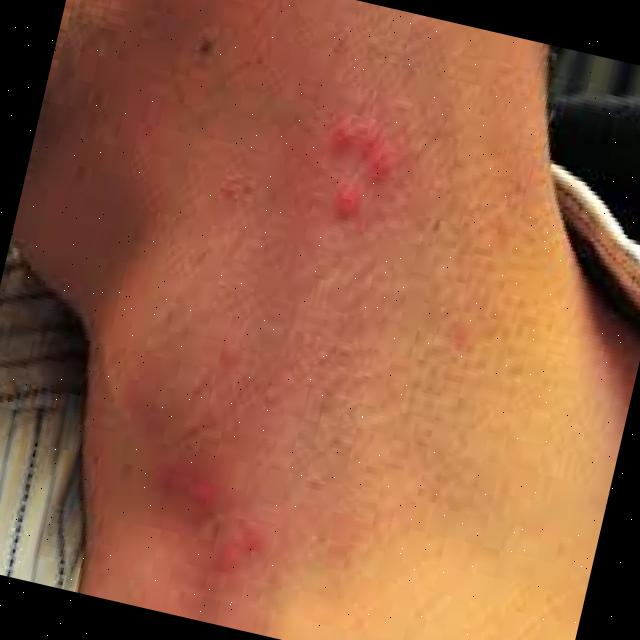kan emici bocekler: (306, 93, 413, 242)
